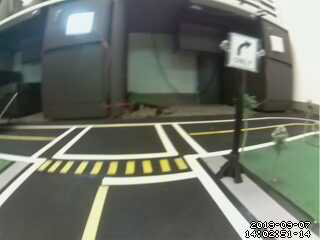Right_only_sign: (225, 29, 257, 74)
